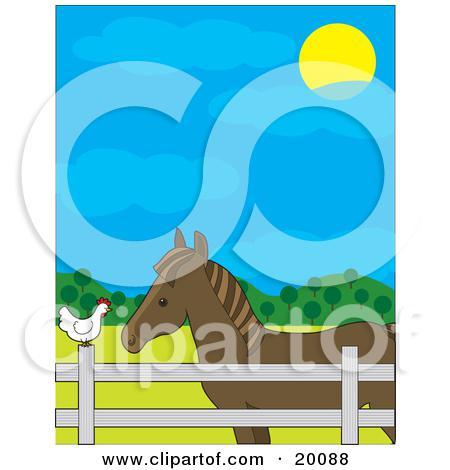bird: (53, 297, 115, 355)
horse: (110, 228, 402, 445)
